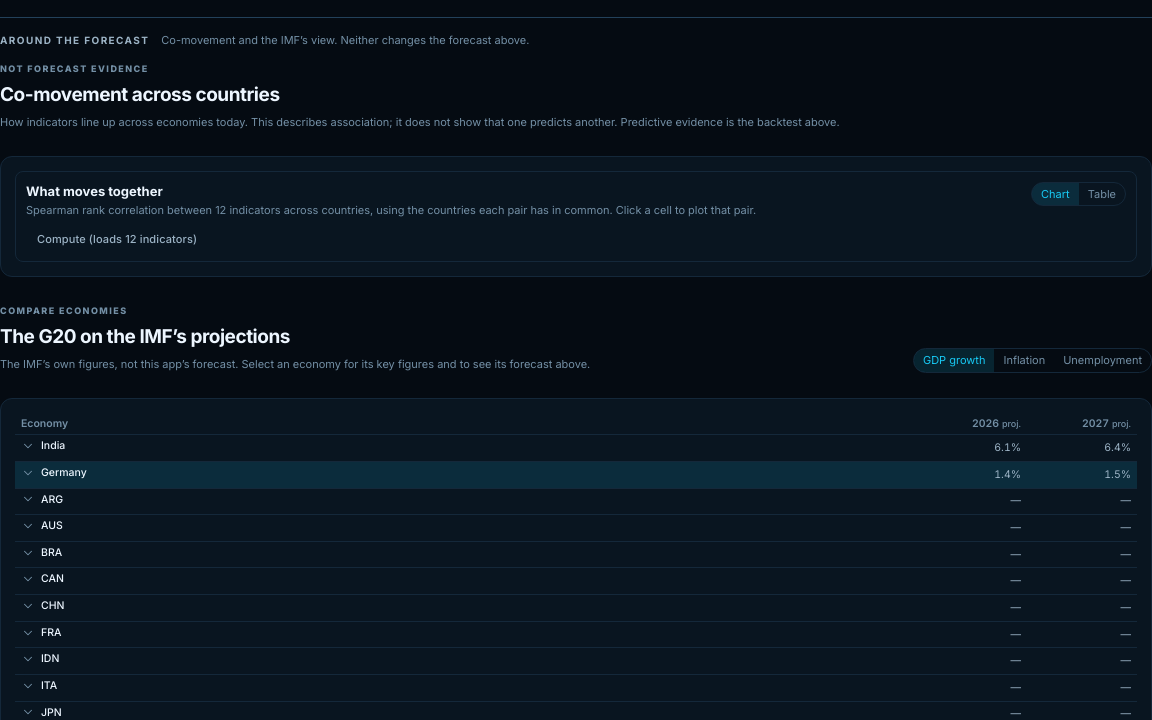
Scenario: ForecastHome › switches the G20 table to another IMF measure, loading it only when asked, and says when it fails
(page scrolled)
Expected: the button "India" is shown, [21,438,65,454]
Click the button "Inflation".
click(1024, 360)  # box [994,349,1054,372]
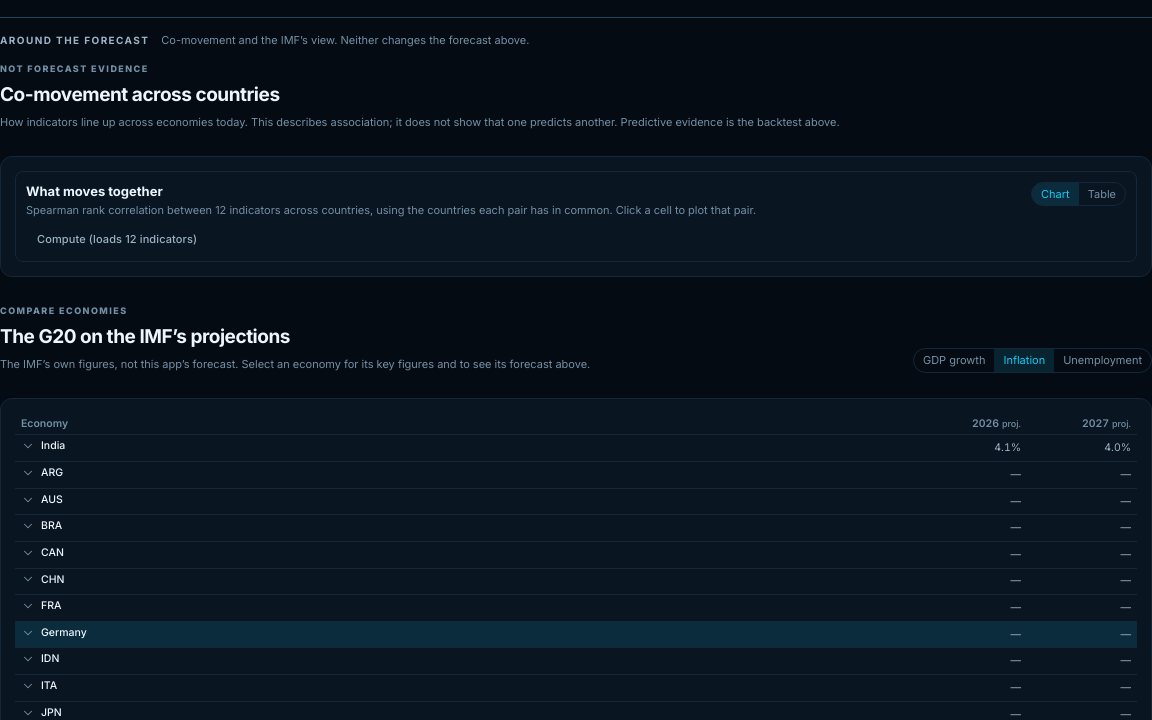
Expected: the row "India" reads "India 4.1% 4.0%", [15,435,1137,462]
Click the button "Unemployment".
click(1103, 360)  # box [1054,349,1151,372]
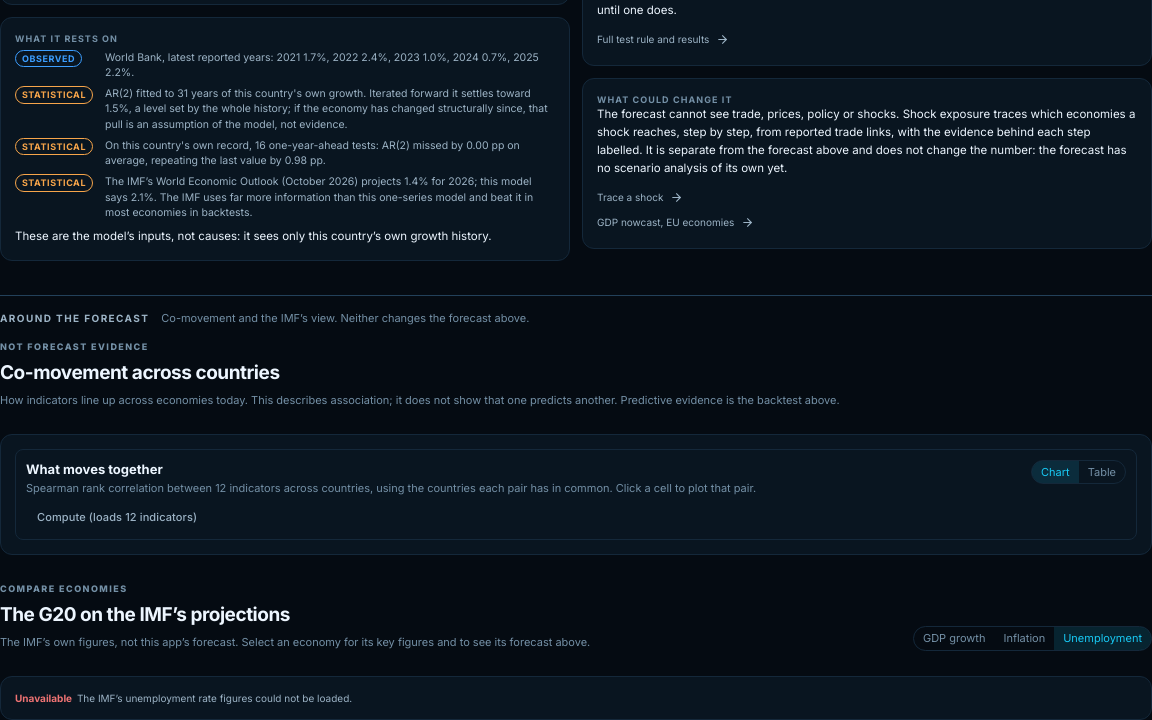
Expected: the text "The IMF’s unemployment rate figures could not be loaded." is shown, [74,692,352,704]
